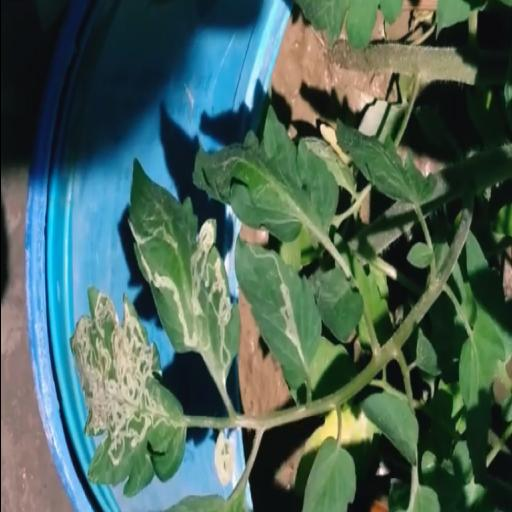Leaf Miner: (70, 278, 188, 500), (124, 160, 239, 374), (232, 236, 322, 392)
